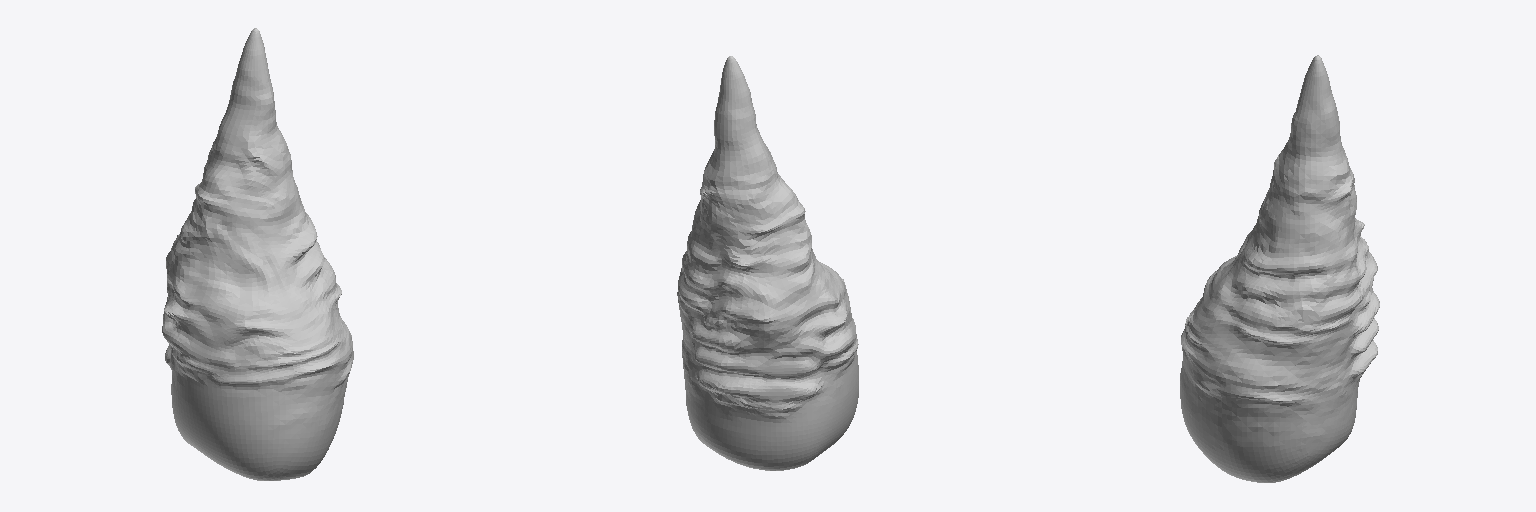
Rendered from stalagmite1.OBJ.
3 renders of one model, left to right at view 1: azimuth 30°, elevation 25°; view 2: azimuth 150°, elevation 25°; view 3: azimuth 270°, elevation 25°, orthographic.
Visible parts, largest first — view 1: Group1; view 2: Group1; view 3: Group1.
Boxes of the visible parts, x1=… form: Group1: x1=162, y1=28, x2=353, y2=480; Group1: x1=677, y1=56, x2=858, y2=470; Group1: x1=1180, y1=55, x2=1379, y2=482.
Bounding box in the file's own units: 2.25 × 5.39 × 2.33.